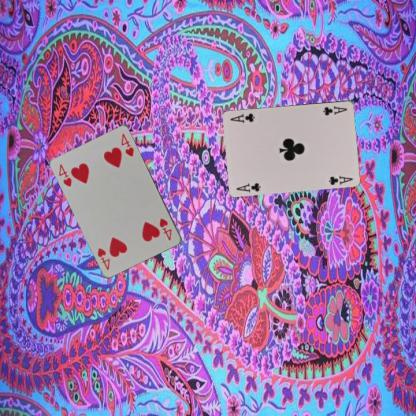4h: (56, 162, 74, 188), (156, 216, 173, 242)
Ac: (233, 180, 262, 194), (321, 103, 348, 117)
